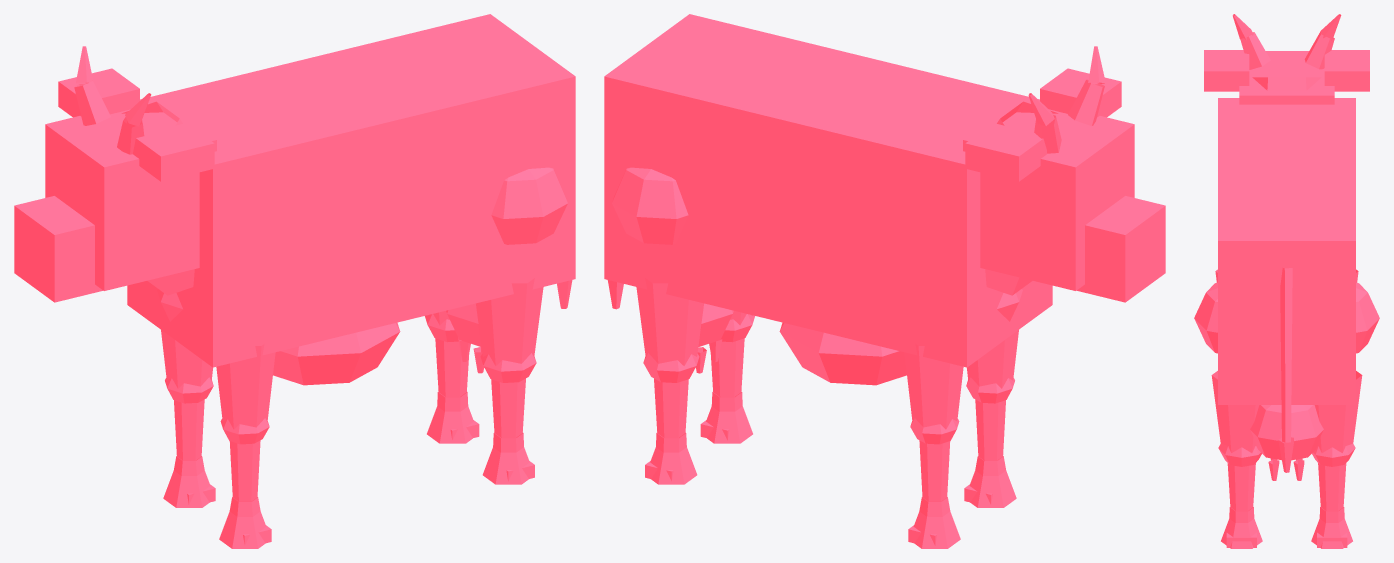
File: neon-cow.glb
3 views of the same model, side by side, from view 1: azimuth 30°, elevation 25°; view 2: azimuth 150°, elevation 25°; view 3: azimuth 270°, elevation 25° (orthographic). The views are drawn at different scales.
Visible parts, largest first — view 1: body, head, leg_BL, leg_FL, leg_FR, leg_BR; view 2: body, head, leg_BR, leg_FR, leg_FL, leg_BL; view 3: body, head, leg_BL, leg_BR.
Boxes of the visible parts, bbox=[...] form: body: bbox=[121, 14, 575, 385]; head: bbox=[14, 46, 216, 302]; leg_BL: bbox=[476, 278, 543, 484]; leg_FL: bbox=[216, 344, 275, 548]; leg_FR: bbox=[161, 330, 215, 507]; leg_BR: bbox=[425, 311, 479, 443]; body: bbox=[604, 14, 1058, 385]; head: bbox=[963, 46, 1165, 302]; leg_BR: bbox=[636, 278, 703, 484]; leg_FR: bbox=[904, 344, 963, 548]; leg_FL: bbox=[964, 330, 1018, 507]; leg_BL: bbox=[700, 311, 754, 443]; body: bbox=[1194, 77, 1379, 480]; head: bbox=[1204, 14, 1369, 104]; leg_BL: bbox=[1211, 371, 1262, 548]; leg_BR: bbox=[1311, 371, 1362, 548].
Size of the model in its own units: 2 by 1.68 by 0.74.
